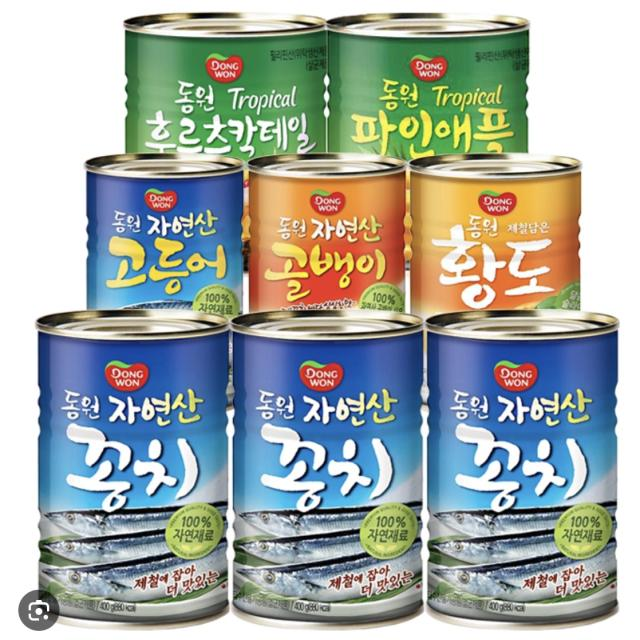recyclable: (424, 294, 630, 631), (222, 298, 427, 633), (328, 1, 540, 167), (114, 0, 328, 161), (406, 138, 585, 324), (76, 139, 250, 311), (247, 142, 404, 313)
